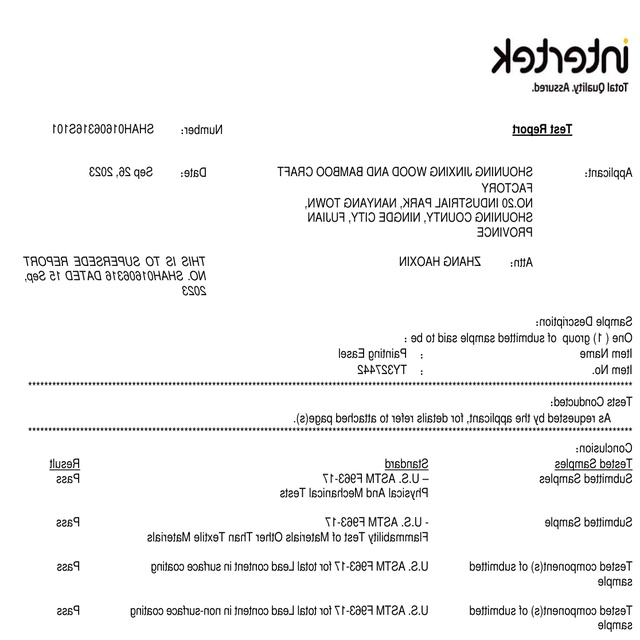intertek: (488, 33, 632, 81)
